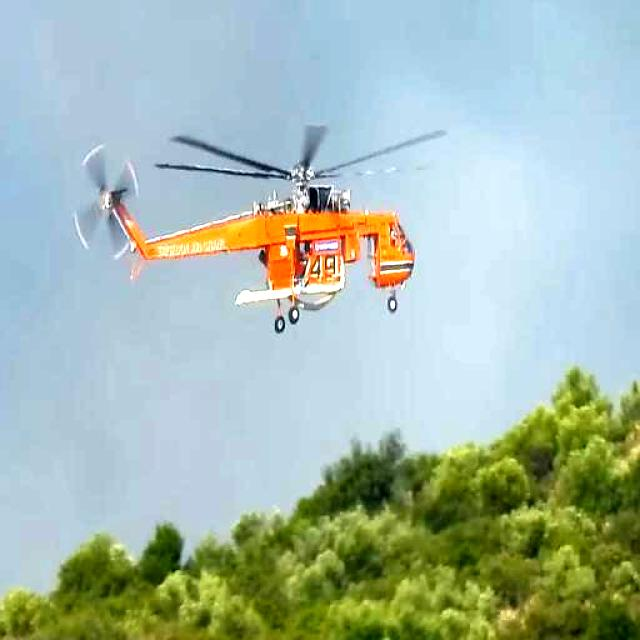drone: (69, 92, 464, 348)
